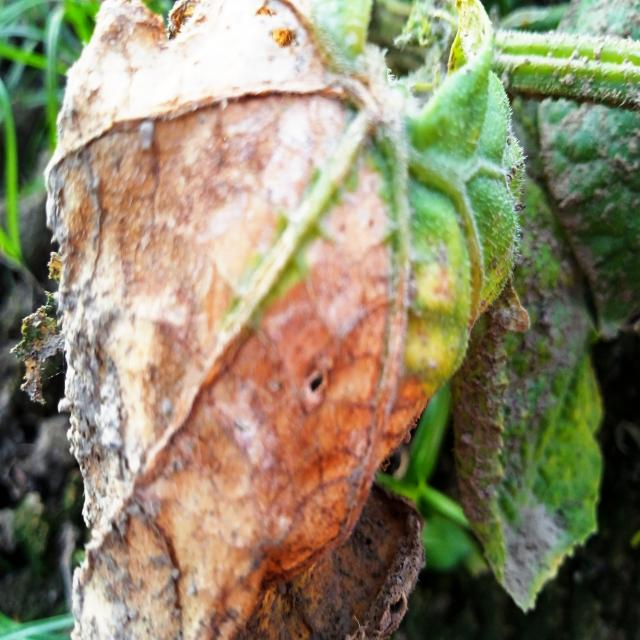Gummy-Stem-Blight: (47, 2, 456, 640)
